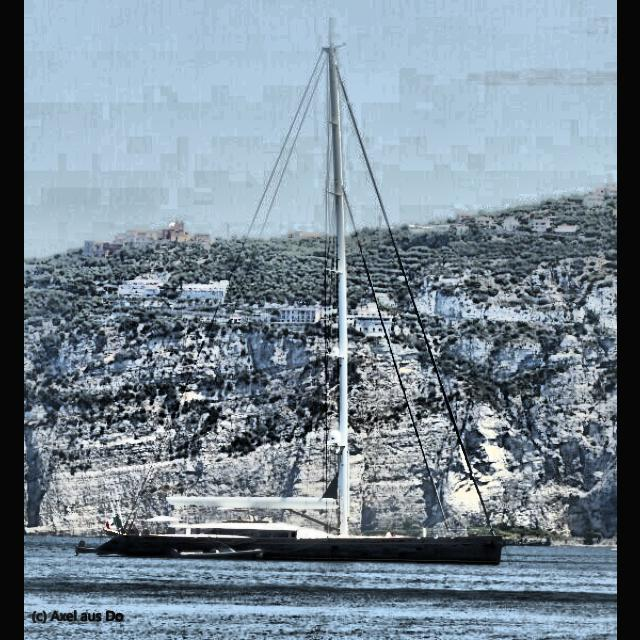sailing_vessel: (74, 42, 504, 566)
